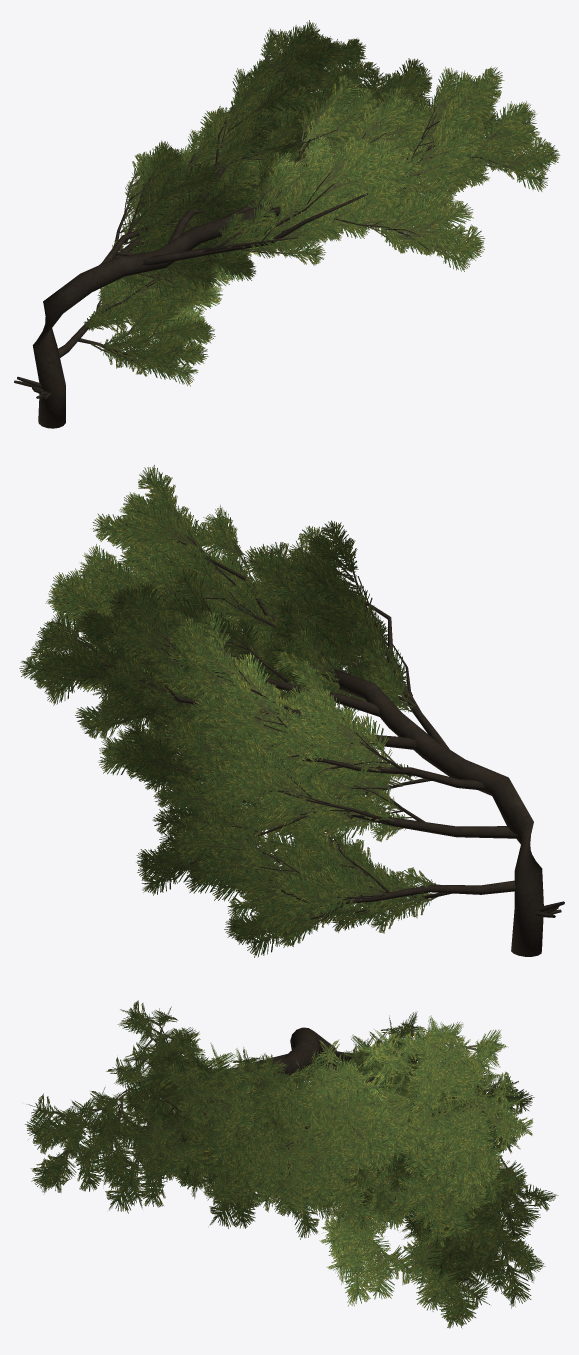
The model's file is krummholz_pine_v03.fbx.
The picture shows the model from 3 angles, top to bottom: view 1: azimuth 30°, elevation 25°; view 2: azimuth 150°, elevation 25°; view 3: azimuth 270°, elevation 25°; orthographic projection. The views are drawn at different scales.
Visible parts, largest first — view 1: krummholz_pine_v03; view 2: krummholz_pine_v03; view 3: krummholz_pine_v03.
Boxes of the visible parts, left/top/right/bottom form: krummholz_pine_v03: left=14, top=20, right=560, bottom=428; krummholz_pine_v03: left=19, top=465, right=564, bottom=957; krummholz_pine_v03: left=25, top=1000, right=558, bottom=1328.
Bounding box in the file's own units: 473 × 367 × 306.
Materials: 2 (2 with a texture image).
